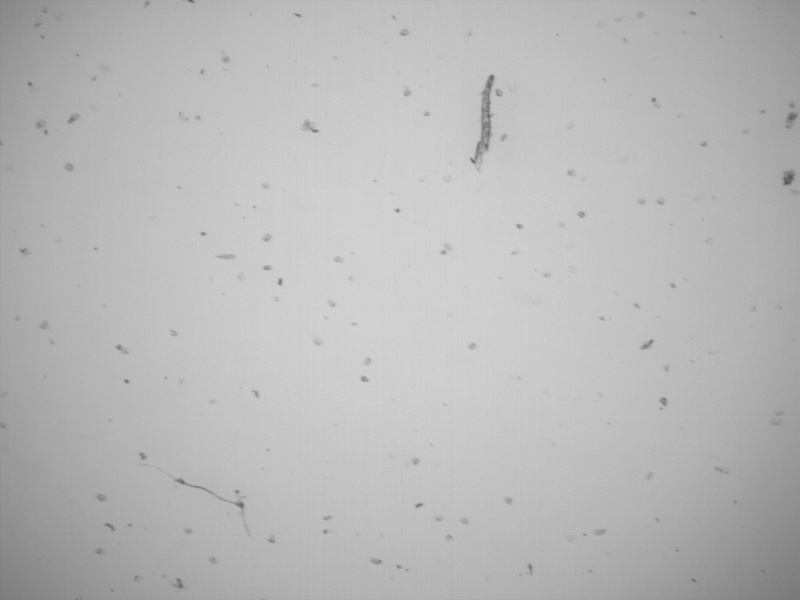fiber: (137, 459, 255, 538), (471, 69, 499, 172)
